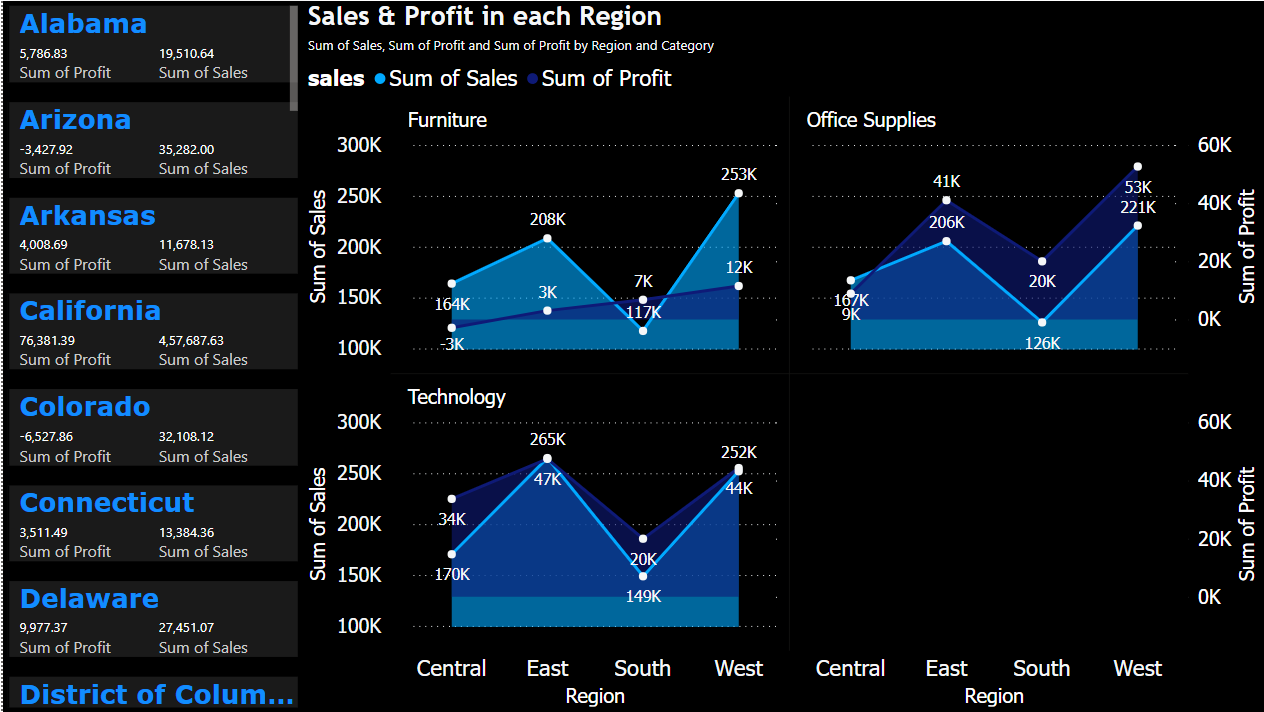

Layout of this report page (visuals, bound fields, positions):
{"tool":"powerbi","page":{"name":"Page 1","canvas":[1280,720],"ordinal":0},"visuals":[{"type":"multiRowCard","fields":{"Values":["Orders.State","Sum(Orders.Profit)","Sum(Orders.Sales)"]},"box":[0,0,303.7,720],"z":0},{"type":"areaChart","title":"Sales & Profit in each Region ","fields":{"Category":["Orders.Region"],"Y":["Sum(Orders.Sales)"],"Rows":["Orders.Category"],"Y2":["Sum(Orders.Profit)"]},"box":[304.3,0,975.7,720],"z":1000}]}

Visuals, with their boxes in screenshot pixels (x1, y1, x2, y2), scaled from the page's 1280x720 canvas onto the 1264x712 screenshot:
multiRowCard - Orders.State x Sum(Orders.Profit): locate(0, 0, 300, 711)
"Sales & Profit in each Region " areaChart: locate(300, 0, 1263, 711)
